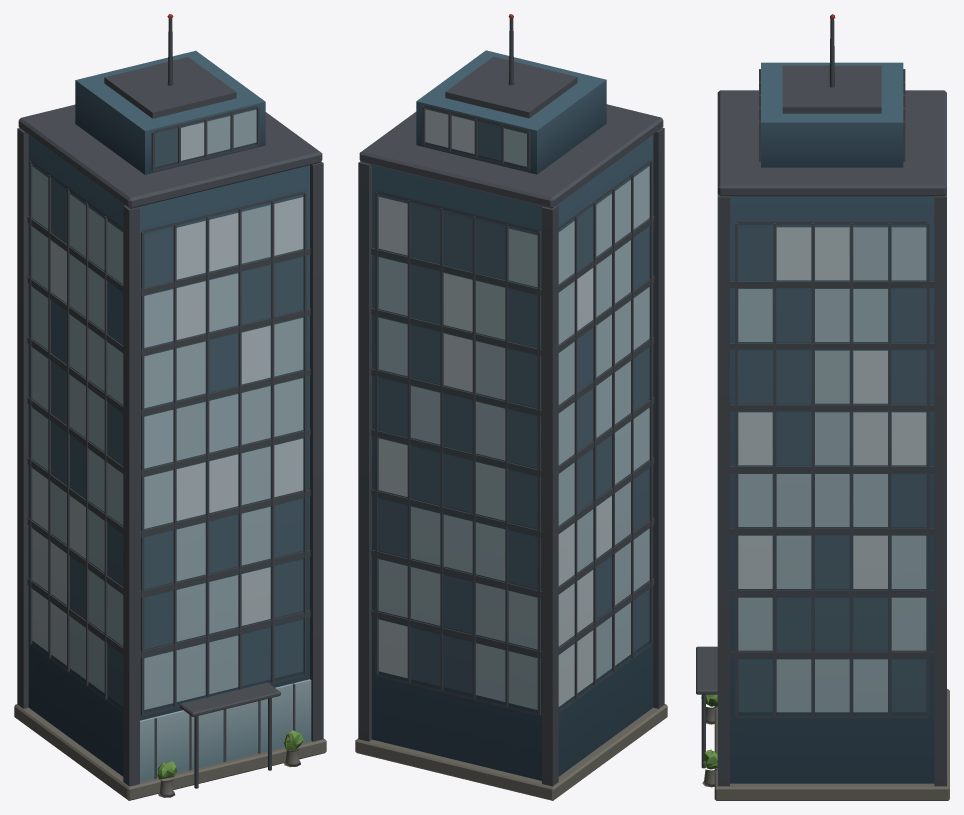
File: glass-skyscraper-01.glb
3 views of the same model, side by side, from view 1: azimuth 30°, elevation 25°; view 2: azimuth 150°, elevation 25°; view 3: azimuth 270°, elevation 25° (orthographic). The views are drawn at different scales.
Visible parts, largest first — view 1: glass_skyscraper_01; view 2: glass_skyscraper_01; view 3: glass_skyscraper_01.
Part boxes in pixels (bbox=[...]): glass_skyscraper_01: bbox=[14, 14, 326, 800]; glass_skyscraper_01: bbox=[355, 14, 667, 800]; glass_skyscraper_01: bbox=[696, 14, 949, 800].
Size of the model in its own units: 7.6 by 26.28 by 8.2.
